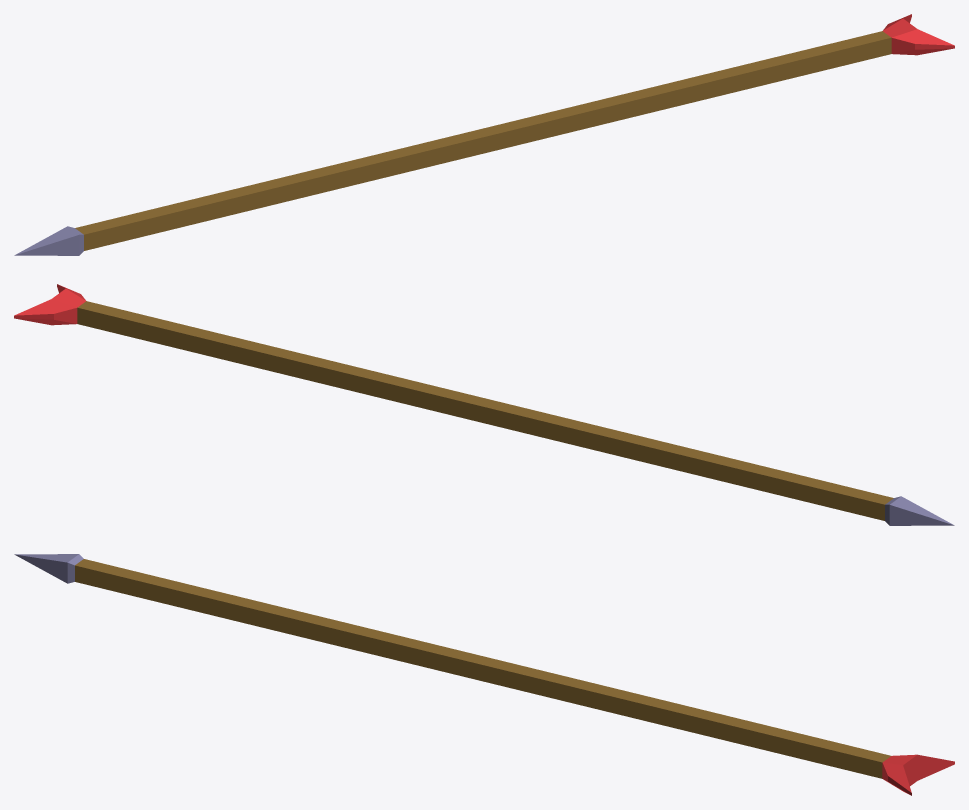
Rendered from Arrow.glb.
3 renders of one model, top to bottom at view 1: azimuth 30°, elevation 25°; view 2: azimuth 150°, elevation 25°; view 3: azimuth 330°, elevation 25°, orthographic.
Parts seen in each view (by area): view 1: Cube; view 2: Cube; view 3: Cube.
Part boxes in pixels (x1=…): Cube: x1=14, y1=14, x2=954, y2=255; Cube: x1=14, y1=284, x2=954, y2=525; Cube: x1=14, y1=554, x2=954, y2=795.
Bounding box in the file's own units: 11.72 × 0.3193 × 0.9518.
